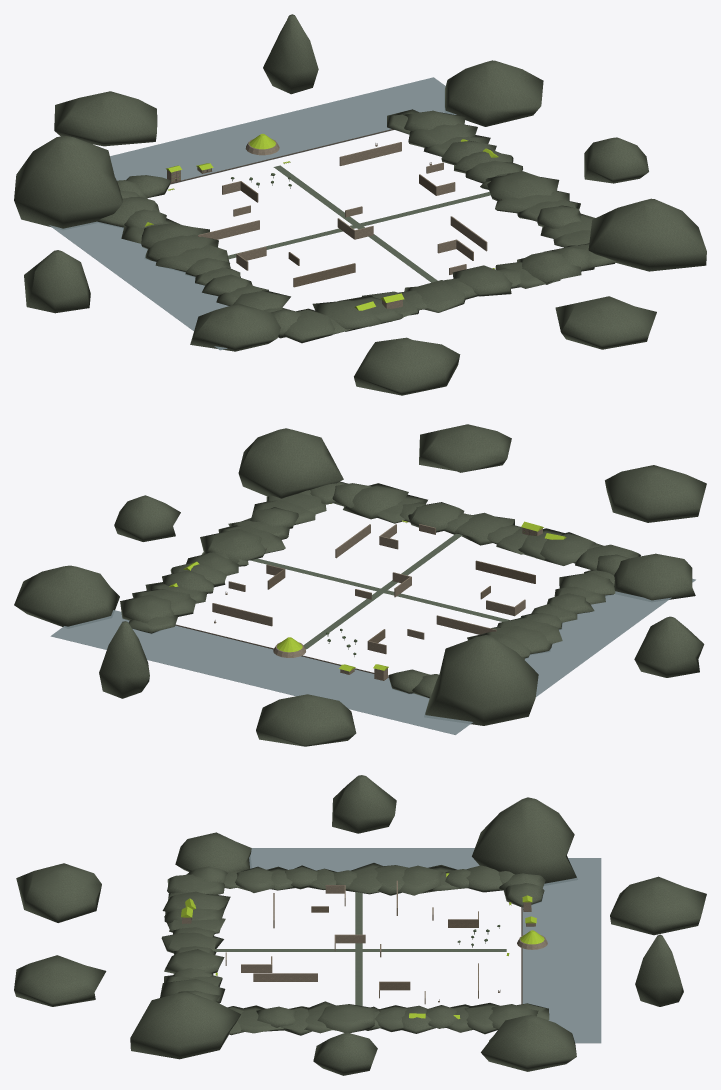
File: kohan-lod2.glb
3 views of the same model, one above another, from view 1: azimuth 30°, elevation 25°; view 2: azimuth 150°, elevation 25°; view 3: azimuth 270°, elevation 25° (orthographic). The views are drawn at different scales.
Visible parts, largest first — view 1: HB_kohan_LOD2_terrain, HB_kohan_LOD2_water, HB_kohan_LOD2_wall, HB_kohan_LOD2_road, HB_kohan_LOD2_wall_alt, HB_kohan_LOD2_accent; view 2: HB_kohan_LOD2_terrain, HB_kohan_LOD2_water, HB_kohan_LOD2_wall, HB_kohan_LOD2_road, HB_kohan_LOD2_wall_alt, HB_kohan_LOD2_accent; view 3: HB_kohan_LOD2_terrain, HB_kohan_LOD2_water, HB_kohan_LOD2_wall, HB_kohan_LOD2_road, HB_kohan_LOD2_wall_alt, HB_kohan_LOD2_accent.
Boxes of the visible parts, bbox=[...] form: HB_kohan_LOD2_terrain: bbox=[14, 14, 706, 395]; HB_kohan_LOD2_water: bbox=[49, 77, 456, 350]; HB_kohan_LOD2_wall: bbox=[167, 139, 487, 309]; HB_kohan_LOD2_road: bbox=[228, 165, 490, 282]; HB_kohan_LOD2_wall_alt: bbox=[171, 144, 436, 287]; HB_kohan_LOD2_accent: bbox=[145, 133, 498, 310]; HB_kohan_LOD2_terrain: bbox=[14, 424, 706, 746]; HB_kohan_LOD2_water: bbox=[50, 578, 695, 734]; HB_kohan_LOD2_wall: bbox=[212, 524, 548, 680]; HB_kohan_LOD2_road: bbox=[250, 534, 509, 649]; HB_kohan_LOD2_wall_alt: bbox=[215, 560, 535, 680]; HB_kohan_LOD2_accent: bbox=[169, 503, 566, 671]; HB_kohan_LOD2_terrain: bbox=[14, 775, 706, 1075]; HB_kohan_LOD2_water: bbox=[249, 848, 601, 1043]; HB_kohan_LOD2_wall: bbox=[182, 880, 547, 1004]; HB_kohan_LOD2_road: bbox=[214, 892, 506, 1005]; HB_kohan_LOD2_wall_alt: bbox=[273, 893, 535, 1001]; HB_kohan_LOD2_accent: bbox=[181, 873, 544, 1019].
Bounding box in the file's own units: 575 × 62.6 × 623.
Materials: 9 (7 with a texture image).
